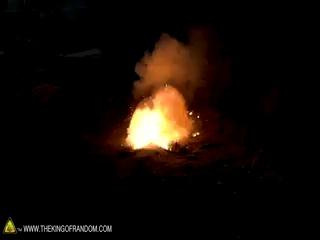Fire: (122, 74, 198, 144)
